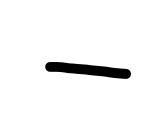minus: (44, 58, 131, 85)
